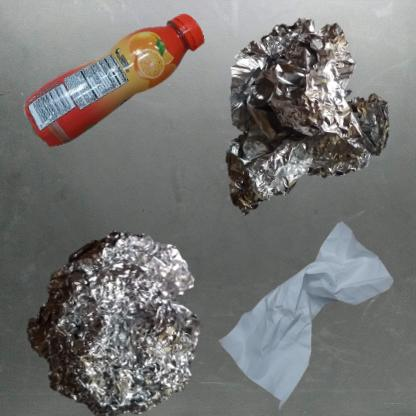aluminio: (10, 213, 227, 416), (213, 10, 399, 219)
botella: (10, 10, 249, 169)
papel: (213, 213, 400, 416)
